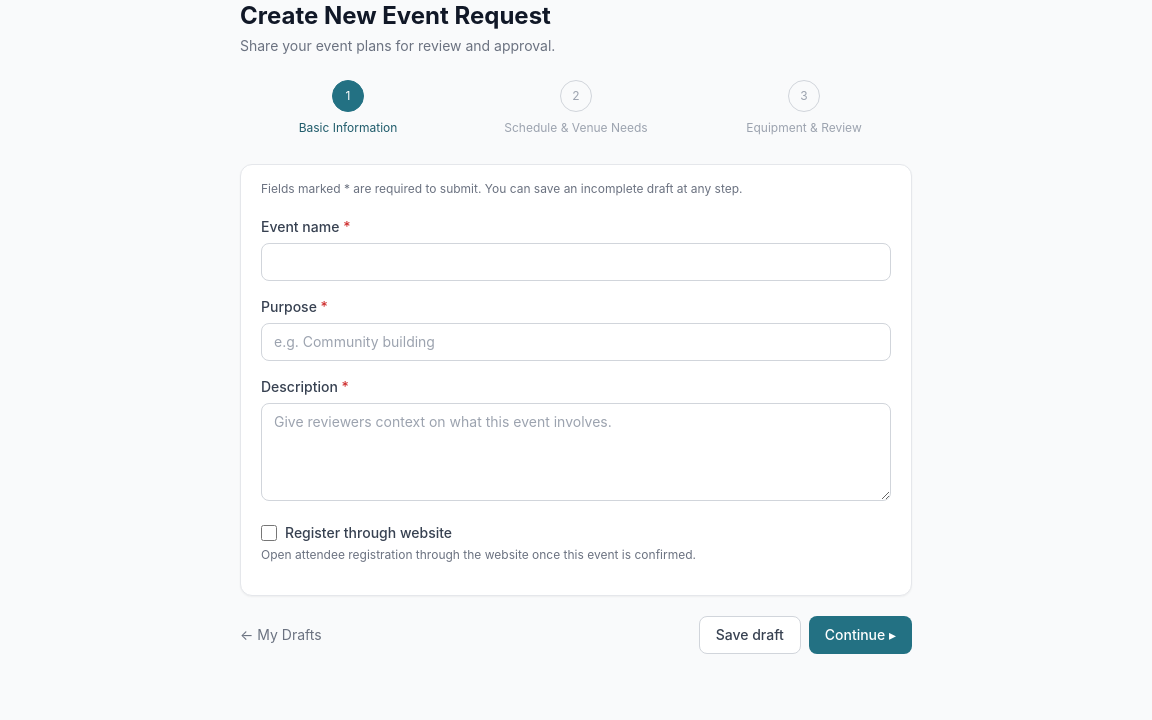
it: SPM-37 Q2 functional cases › Q2-005 retries uncertain operation before saving edits made after failure
Type "Before" into the field labelled "Event name *". click: (576, 262)
box: x1=261 y1=243 x2=891 y2=281
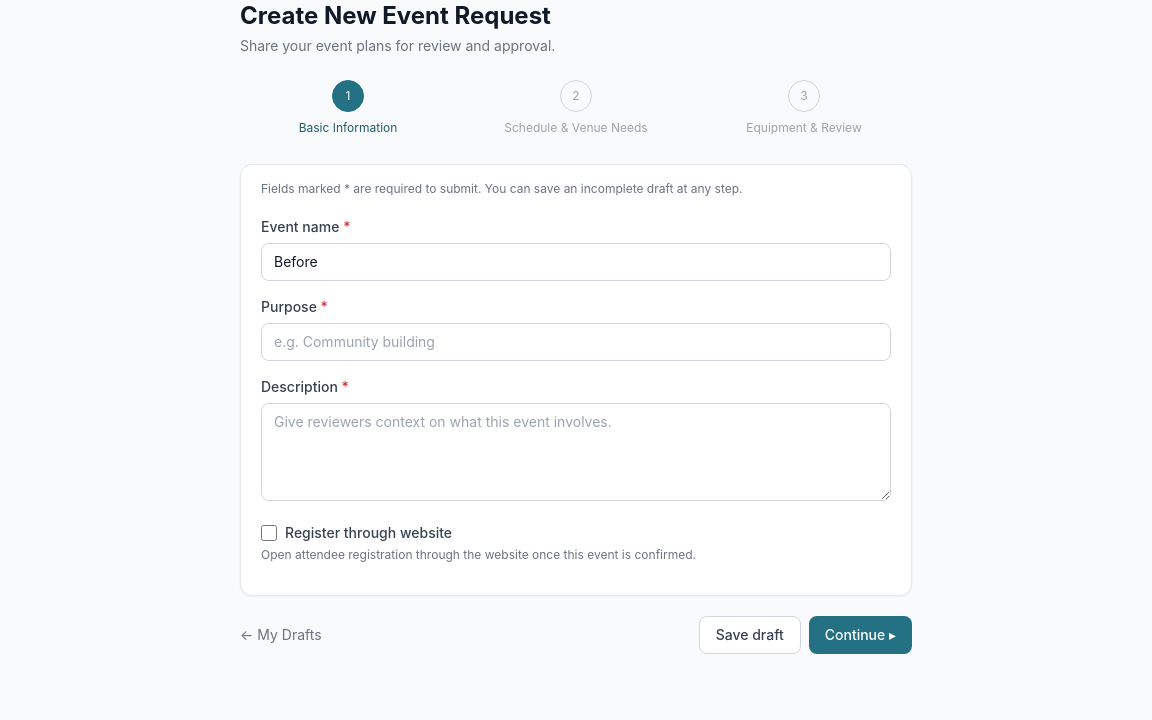
Click the button "Save draft". click: click(750, 635)
box: x1=699 y1=616 x2=801 y2=654
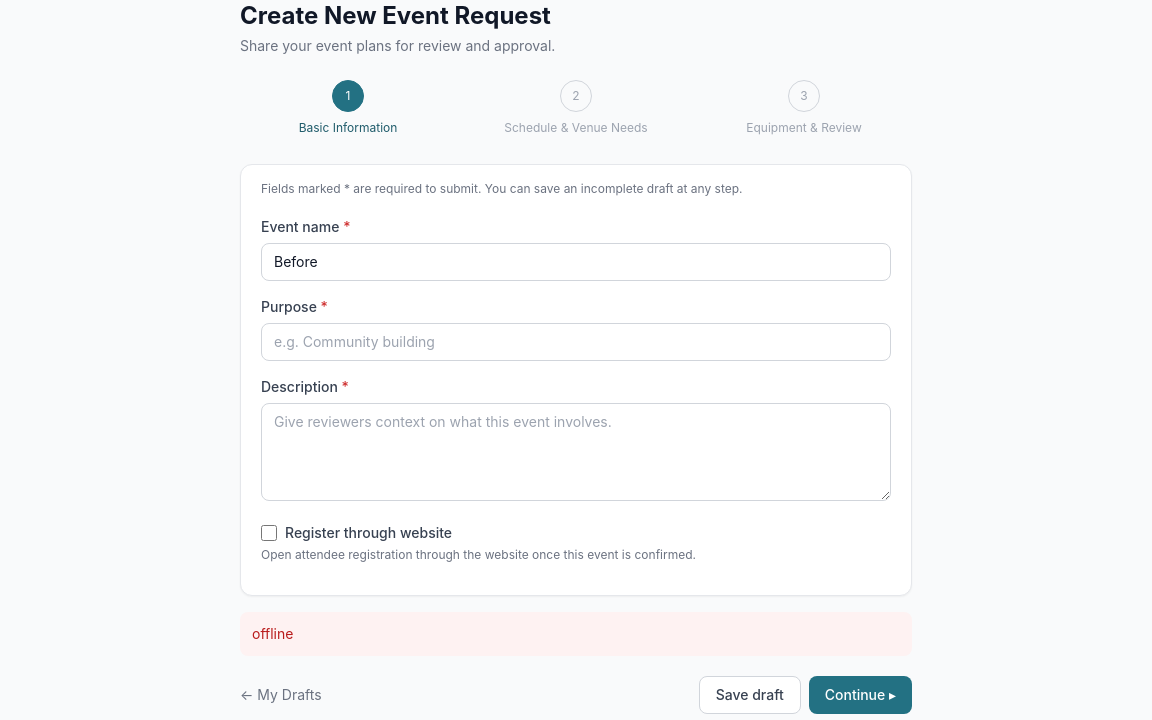
Check: the message "offline" is shown, box x1=240 y1=612 x2=912 y2=656
Replace the text in the field labelled "Event name *" with "After". click: (576, 262)
box: x1=261 y1=243 x2=891 y2=281
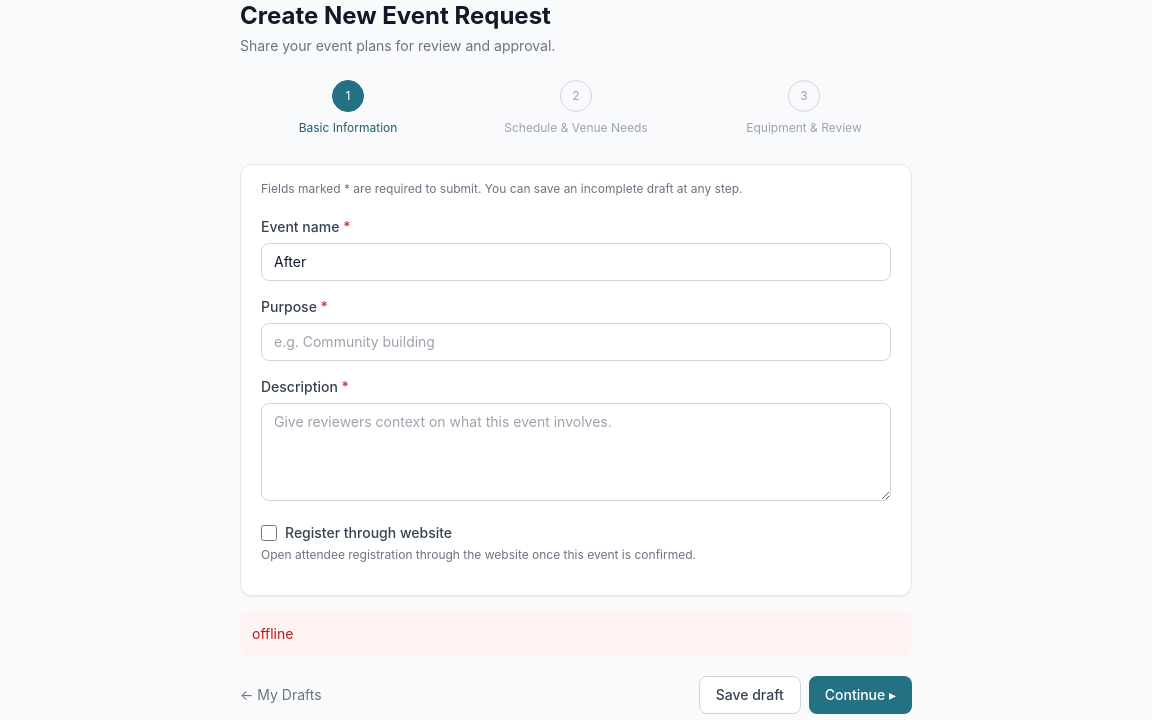
Click the button "Save draft". click: click(750, 695)
box: x1=699 y1=676 x2=801 y2=714
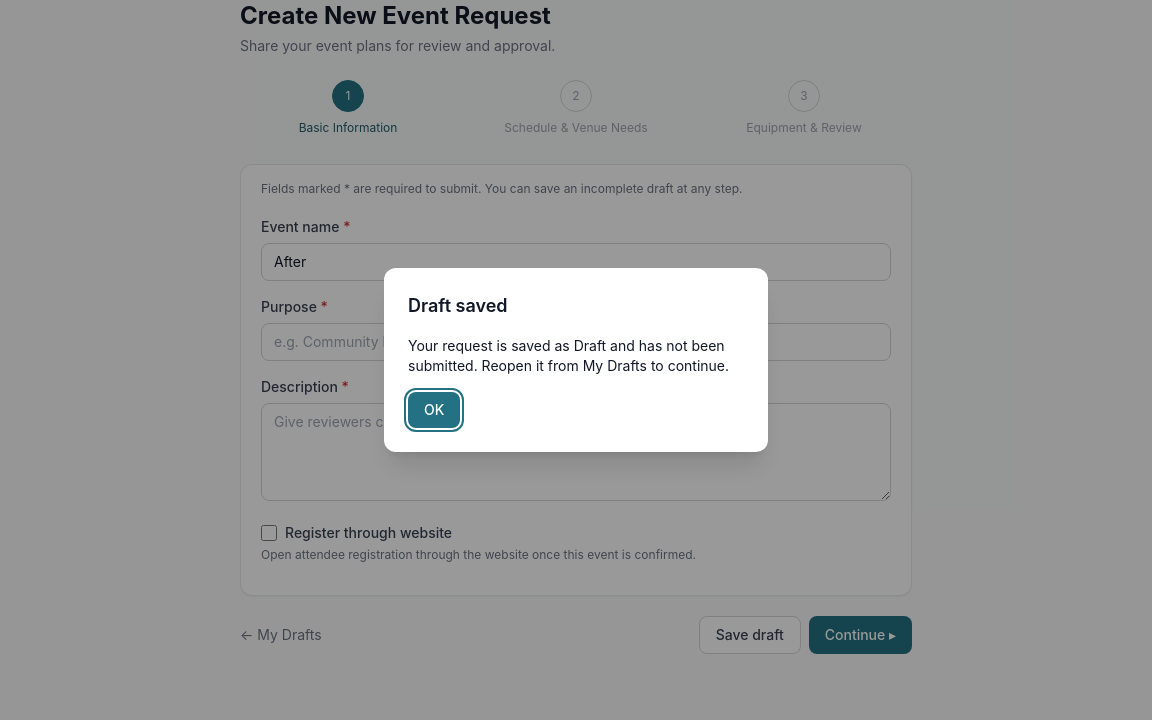
Check: the dialog is shown, box x1=384 y1=268 x2=768 y2=452
